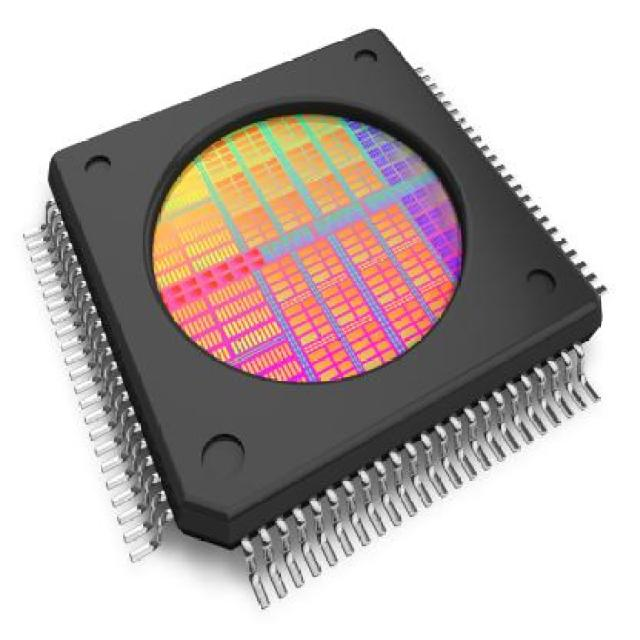Wafer: (51, 29, 603, 558)
